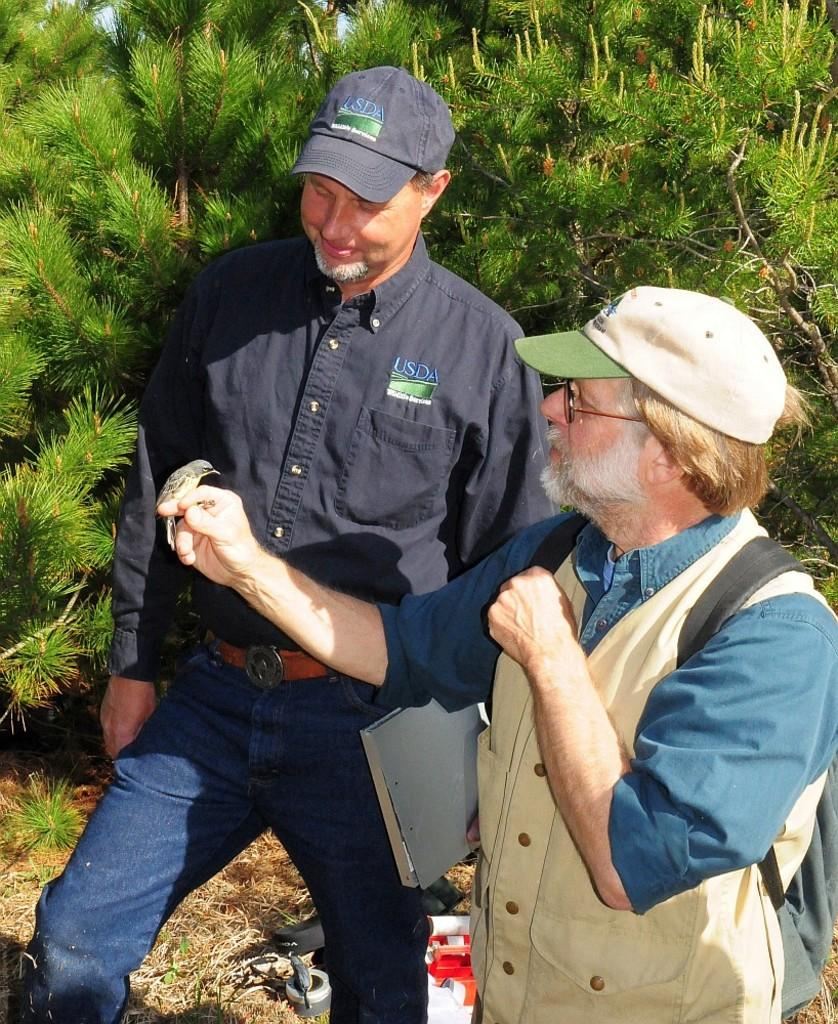Hat: (515, 292, 794, 446), (280, 64, 455, 204)
